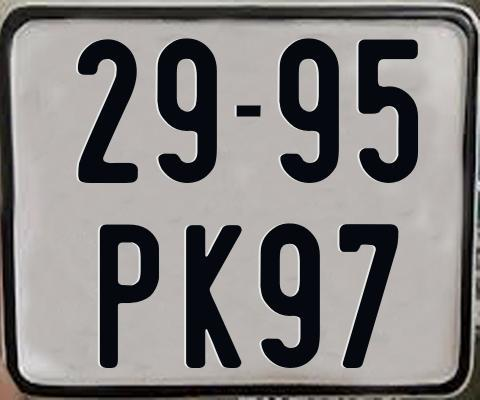2: (77, 39, 138, 186)
5: (355, 36, 421, 181)
7: (336, 222, 402, 372)
9: (276, 35, 341, 183), (157, 38, 221, 184), (260, 221, 322, 369)
K: (185, 224, 245, 369)
P: (99, 224, 162, 372)
